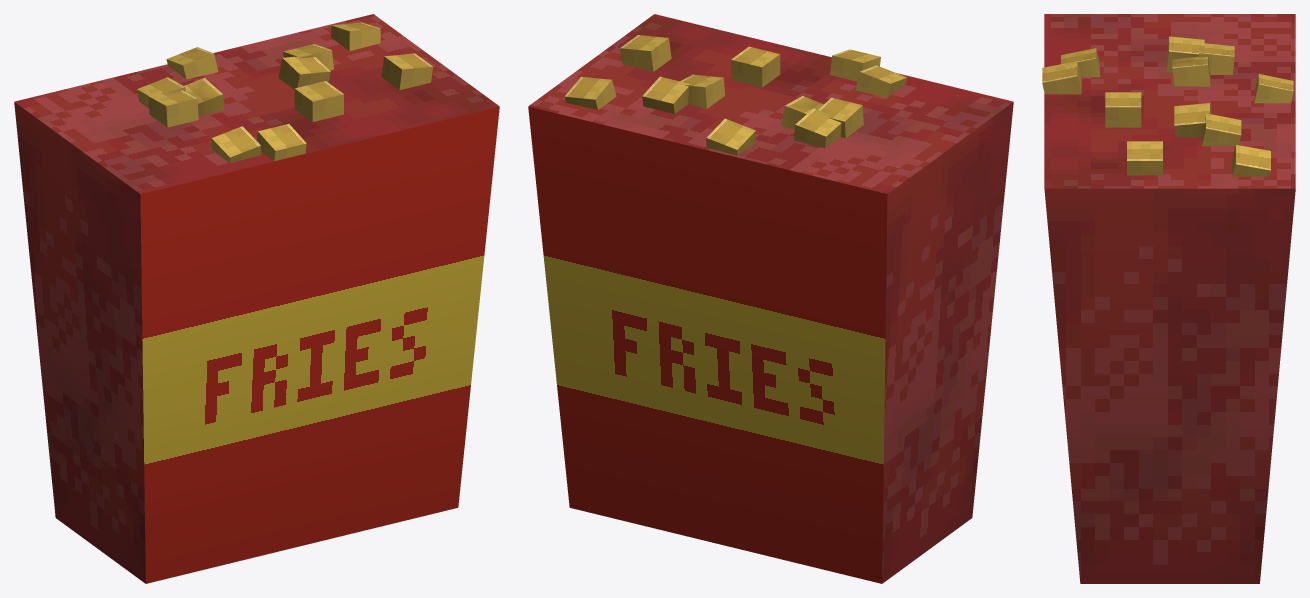
The model's file is fries.glb.
3 views of the same model, side by side, from view 1: azimuth 30°, elevation 25°; view 2: azimuth 150°, elevation 25°; view 3: azimuth 270°, elevation 25° (orthographic).
Visible parts, largest first — view 1: fries; view 2: fries; view 3: fries.
Part boxes in pixels (x1,y1,x2,y2): fries: (14,14,499,583); fries: (528,14,1013,583); fries: (1042,14,1295,583).
Size of the model in its own units: 0.092 by 0.1051 by 0.0565.
Materials: 1 (1 with a texture image).
